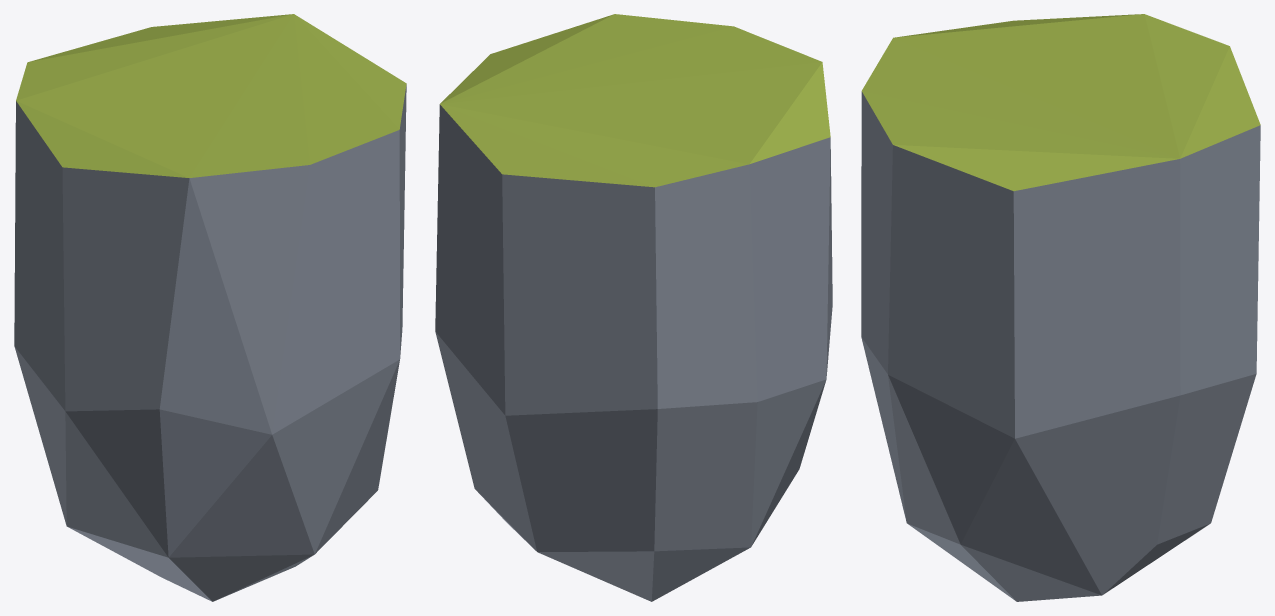
Rendered from Single Platform5.fbx.
3 renders of one model, left to right at view 1: azimuth 30°, elevation 25°; view 2: azimuth 150°, elevation 25°; view 3: azimuth 270°, elevation 25°, orthographic. The views are drawn at different scales.
Parts seen in each view (by area): view 1: Cube.002; view 2: Cube.002; view 3: Cube.002.
Part boxes in pixels (box(x1,y1,x2,y2)): Cube.002: box(14, 14, 406, 601); Cube.002: box(435, 14, 832, 601); Cube.002: box(861, 14, 1260, 601).
Size of the model in its own units: 292 by 398 by 289.
